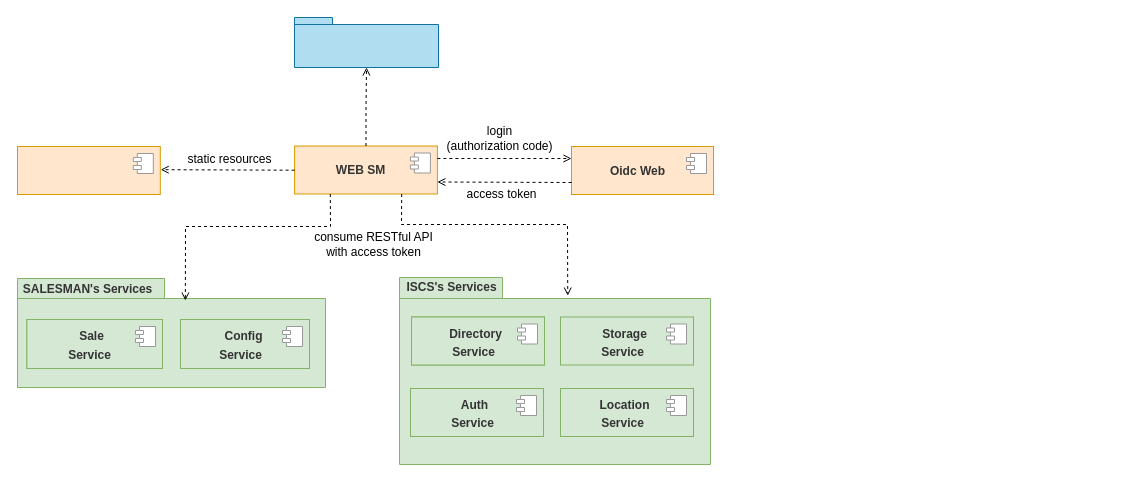
Image size: 1135x482. Some labels were removed from this diagram. Here are the shapes that lost their labels. From the top down, the centre of each, then its label:
At (366,42): "MinIO".
At (88,170): "Static Web".
